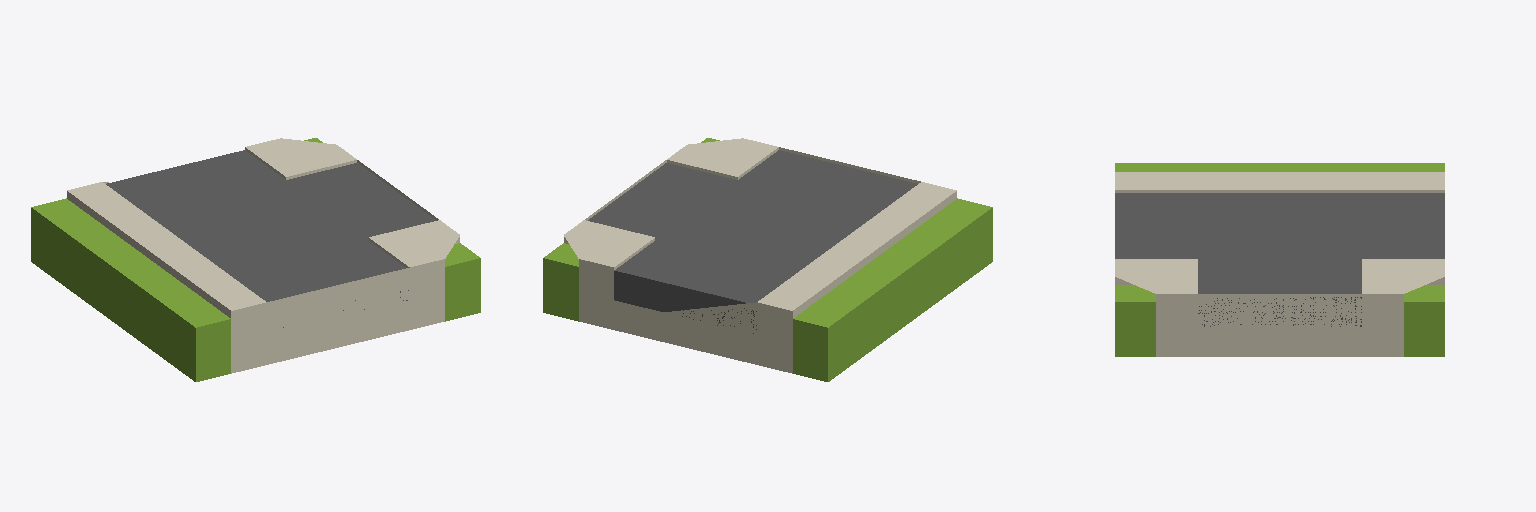
3 views of the same model, side by side, from view 1: azimuth 30°, elevation 25°; view 2: azimuth 150°, elevation 25°; view 3: azimuth 270°, elevation 25° (orthographic).
Parts seen in each view (by area): view 1: Junction-T; view 2: Junction-T; view 3: Junction-T.
Part boxes in pixels (left/top/right/bottom): Junction-T: left=31, top=138, right=480, bottom=381; Junction-T: left=543, top=138, right=992, bottom=381; Junction-T: left=1115, top=163, right=1444, bottom=356.
Bounding box in the file's own units: 3 × 0.63 × 3.